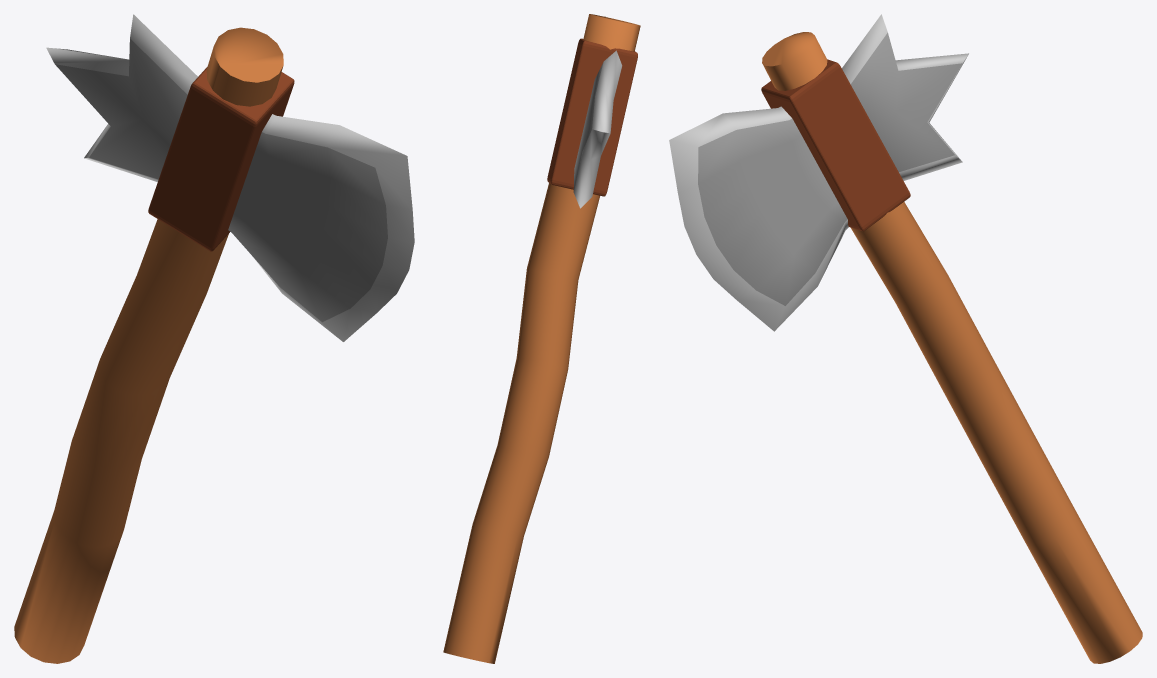
The model's file is Axe.fbx.
The picture shows the model from 3 angles, left to right: view 1: azimuth 30°, elevation 25°; view 2: azimuth 150°, elevation 25°; view 3: azimuth 270°, elevation 25°; orthographic projection. The views are drawn at different scales.
Parts seen in each view (by area): view 1: Cube.005; view 2: Cube.005; view 3: Cube.005.
Part boxes in pixels (bbox=[...]): Cube.005: bbox=[14, 14, 414, 663]; Cube.005: bbox=[443, 14, 640, 663]; Cube.005: bbox=[669, 14, 1142, 663].
Size of the model in its own units: 400 by 1456 by 1006.
